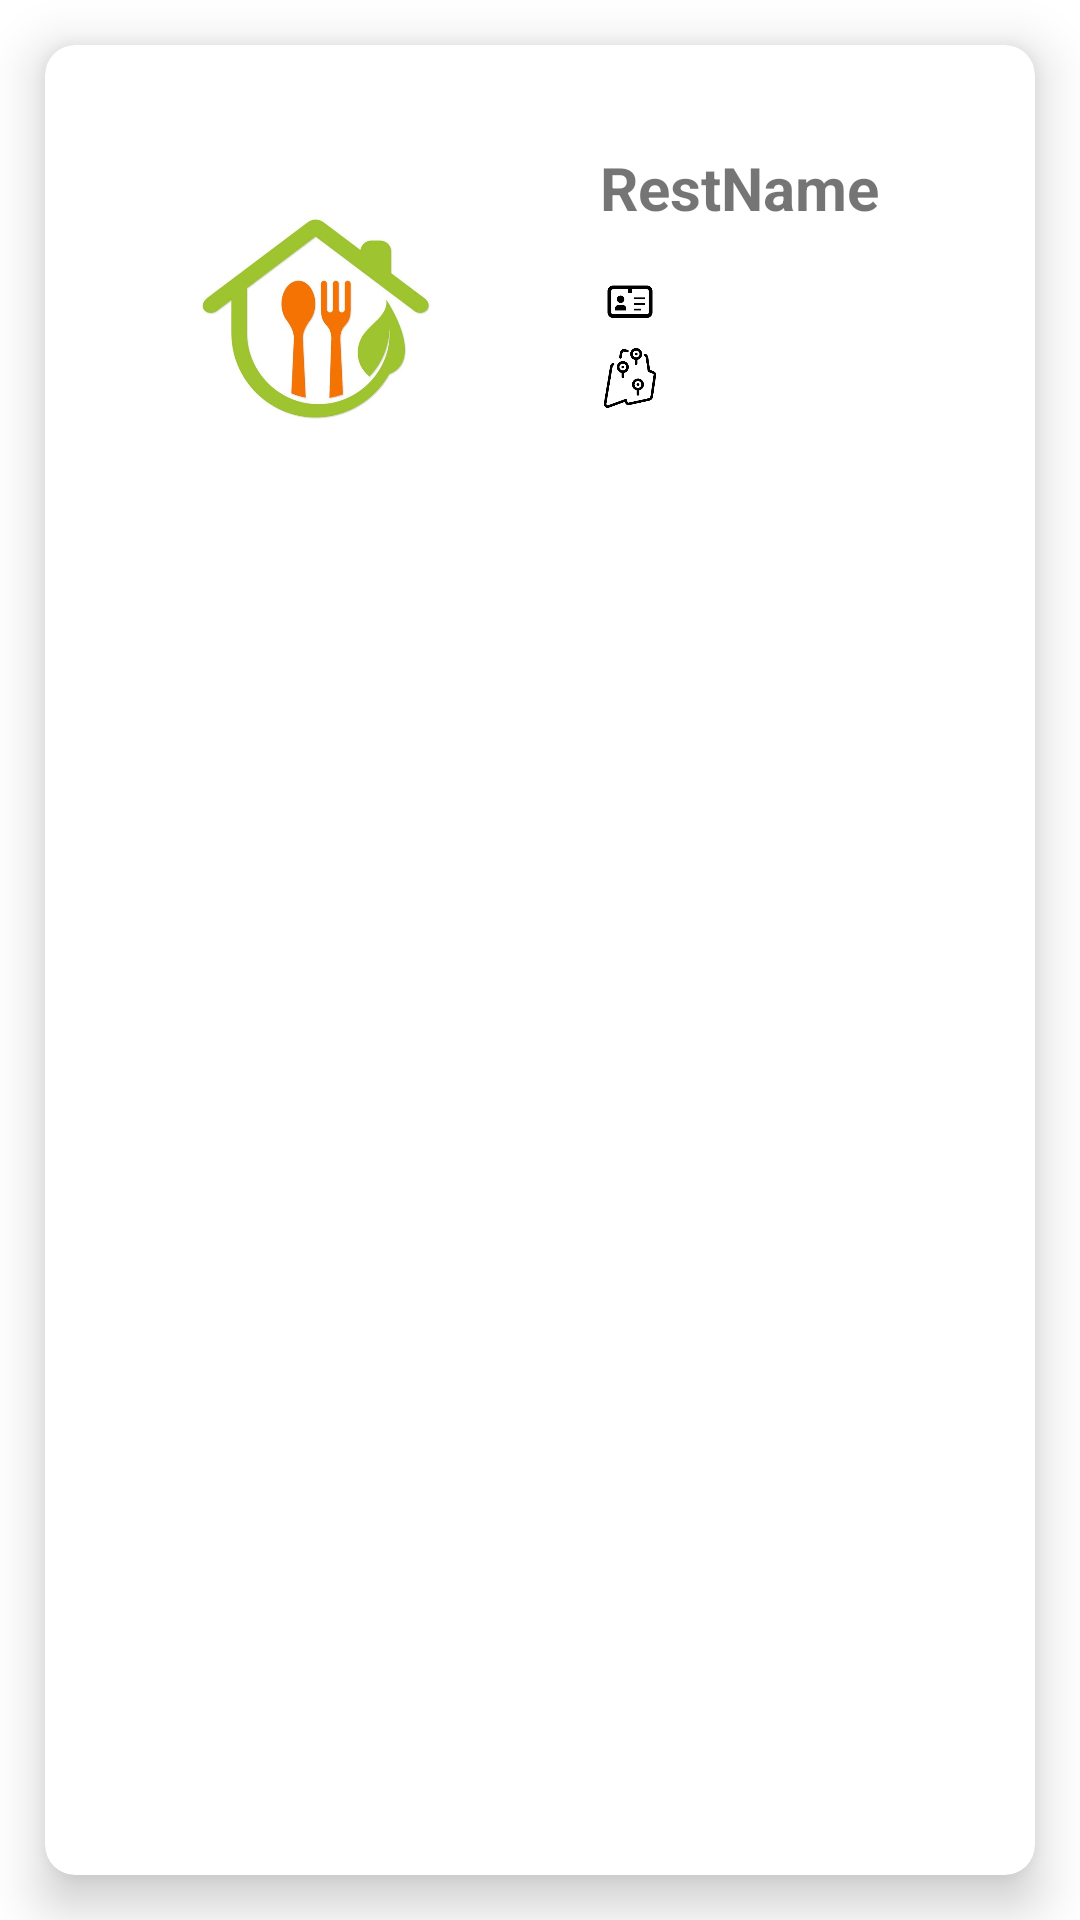

Named icons in this screenshot (1080*1920) and their centers, (x,y):
area: (630,378)
food: (315,318)
